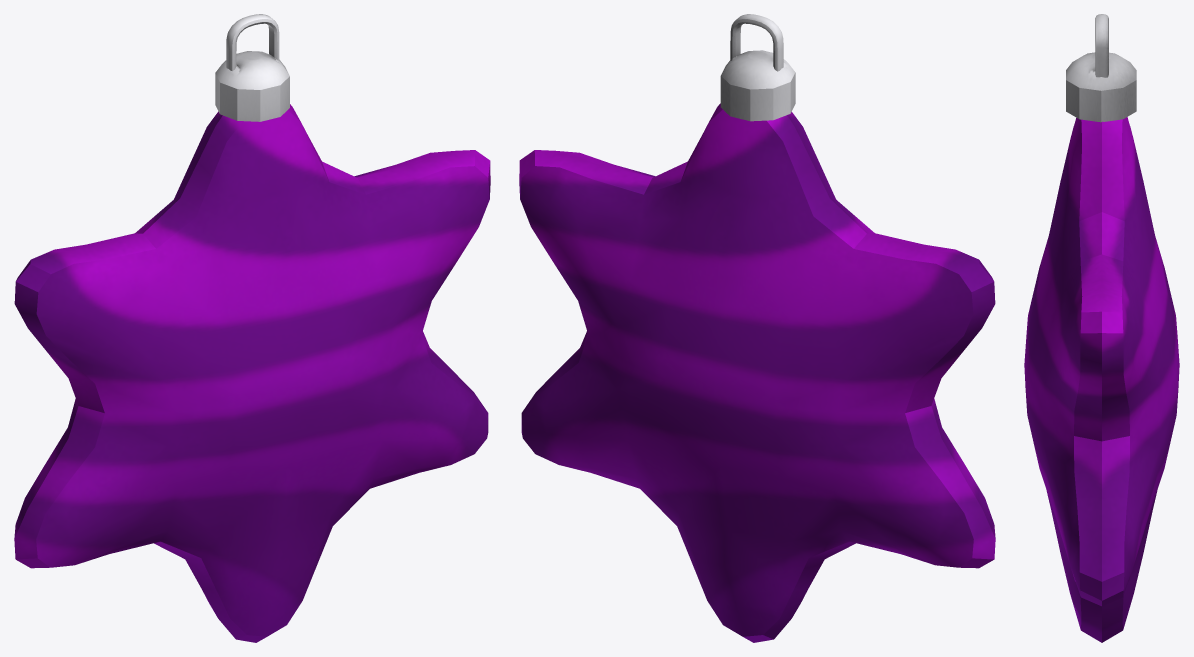
The picture shows the model from 3 angles, left to right: view 1: azimuth 30°, elevation 25°; view 2: azimuth 150°, elevation 25°; view 3: azimuth 270°, elevation 25°; orthographic projection.
Visible parts, largest first — view 1: V5_Christmas Collection14_V5_Christmas Collection_0; view 2: V5_Christmas Collection14_V5_Christmas Collection_0; view 3: V5_Christmas Collection14_V5_Christmas Collection_0.
Part boxes in pixels (x1,y1,x2,y2): V5_Christmas Collection14_V5_Christmas Collection_0: (14,14,490,642); V5_Christmas Collection14_V5_Christmas Collection_0: (519,14,995,642); V5_Christmas Collection14_V5_Christmas Collection_0: (1024,14,1179,642).
Bounding box in the file's own units: 33.12 × 41.7 × 9.44.
1 material, 1 textured.
